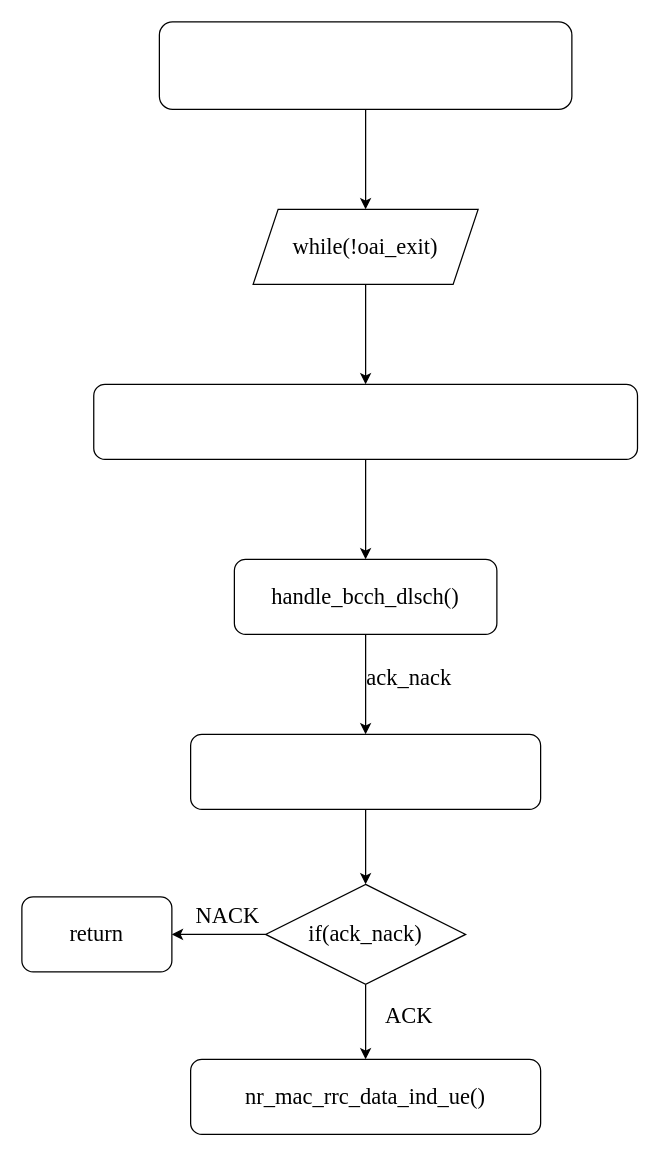
Some shapes in this 660 by 1156 pixel diagram are drawn without their labels. Each missing label, with the centre of its shape:
"nr_ue_decode_BCCH_DL_SCH()" goes at pixel 365 771.
"nr_ue_dl_indication(&mac->dl_info, &ul_time_alignment)" goes at pixel 365 421.
"NRUE_phy_stub_standalone_pnf_task" goes at pixel 365 65.
